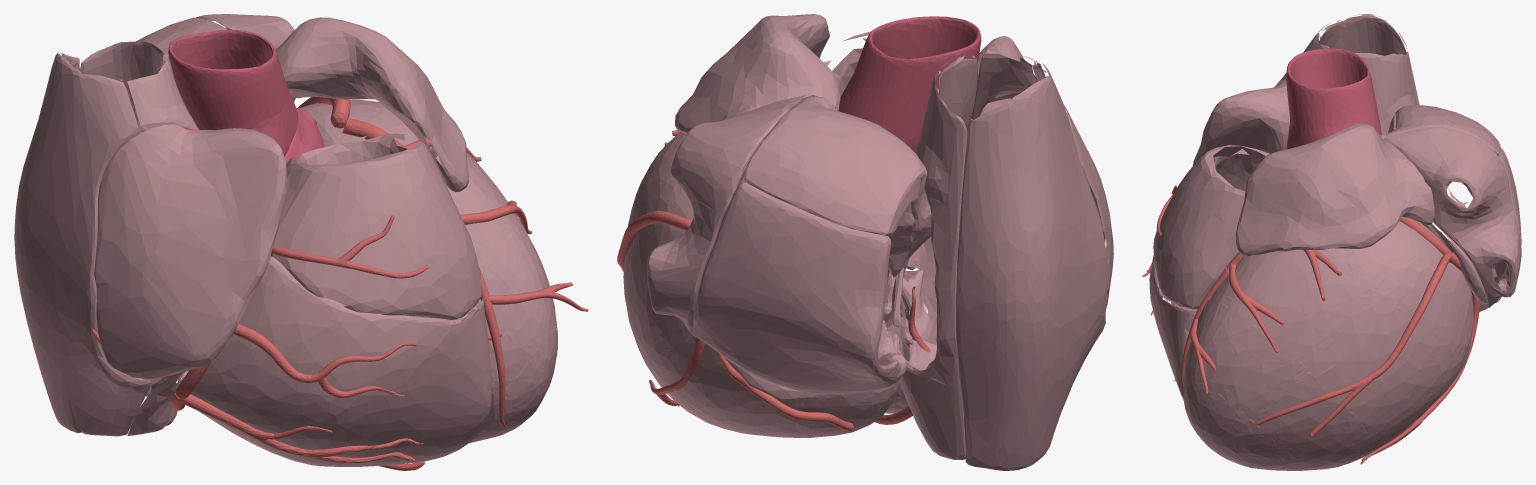
The model's file is heart.glb.
3 renders of one model, left to right at view 1: azimuth 30°, elevation 25°; view 2: azimuth 150°, elevation 25°; view 3: azimuth 270°, elevation 25°, orthographic. The views are drawn at different scales.
Visible parts, largest first — view 1: Heart_Muscle, Aorta, RCA, LAD, LCX; view 2: Heart_Muscle, Aorta, LCX, RCA; view 3: Heart_Muscle, Aorta, LCX, LAD.
Part boxes in pixels (x1,y1,x2,y2): Heart_Muscle: (14,14,557,466); Aorta: (168,29,324,163); RCA: (91,125,428,470); LAD: (342,118,588,427); LCX: (297,96,350,128); Heart_Muscle: (623,14,1113,470); Aorta: (835,16,981,153); LCX: (617,211,853,431); RCA: (874,108,1108,424); Heart_Muscle: (1149,14,1521,470); Aorta: (1286,48,1381,149); LCX: (1255,217,1479,464); LAD: (1181,249,1342,395).
Bounding box in the file's own units: 1.73 × 1.53 × 1.6.
